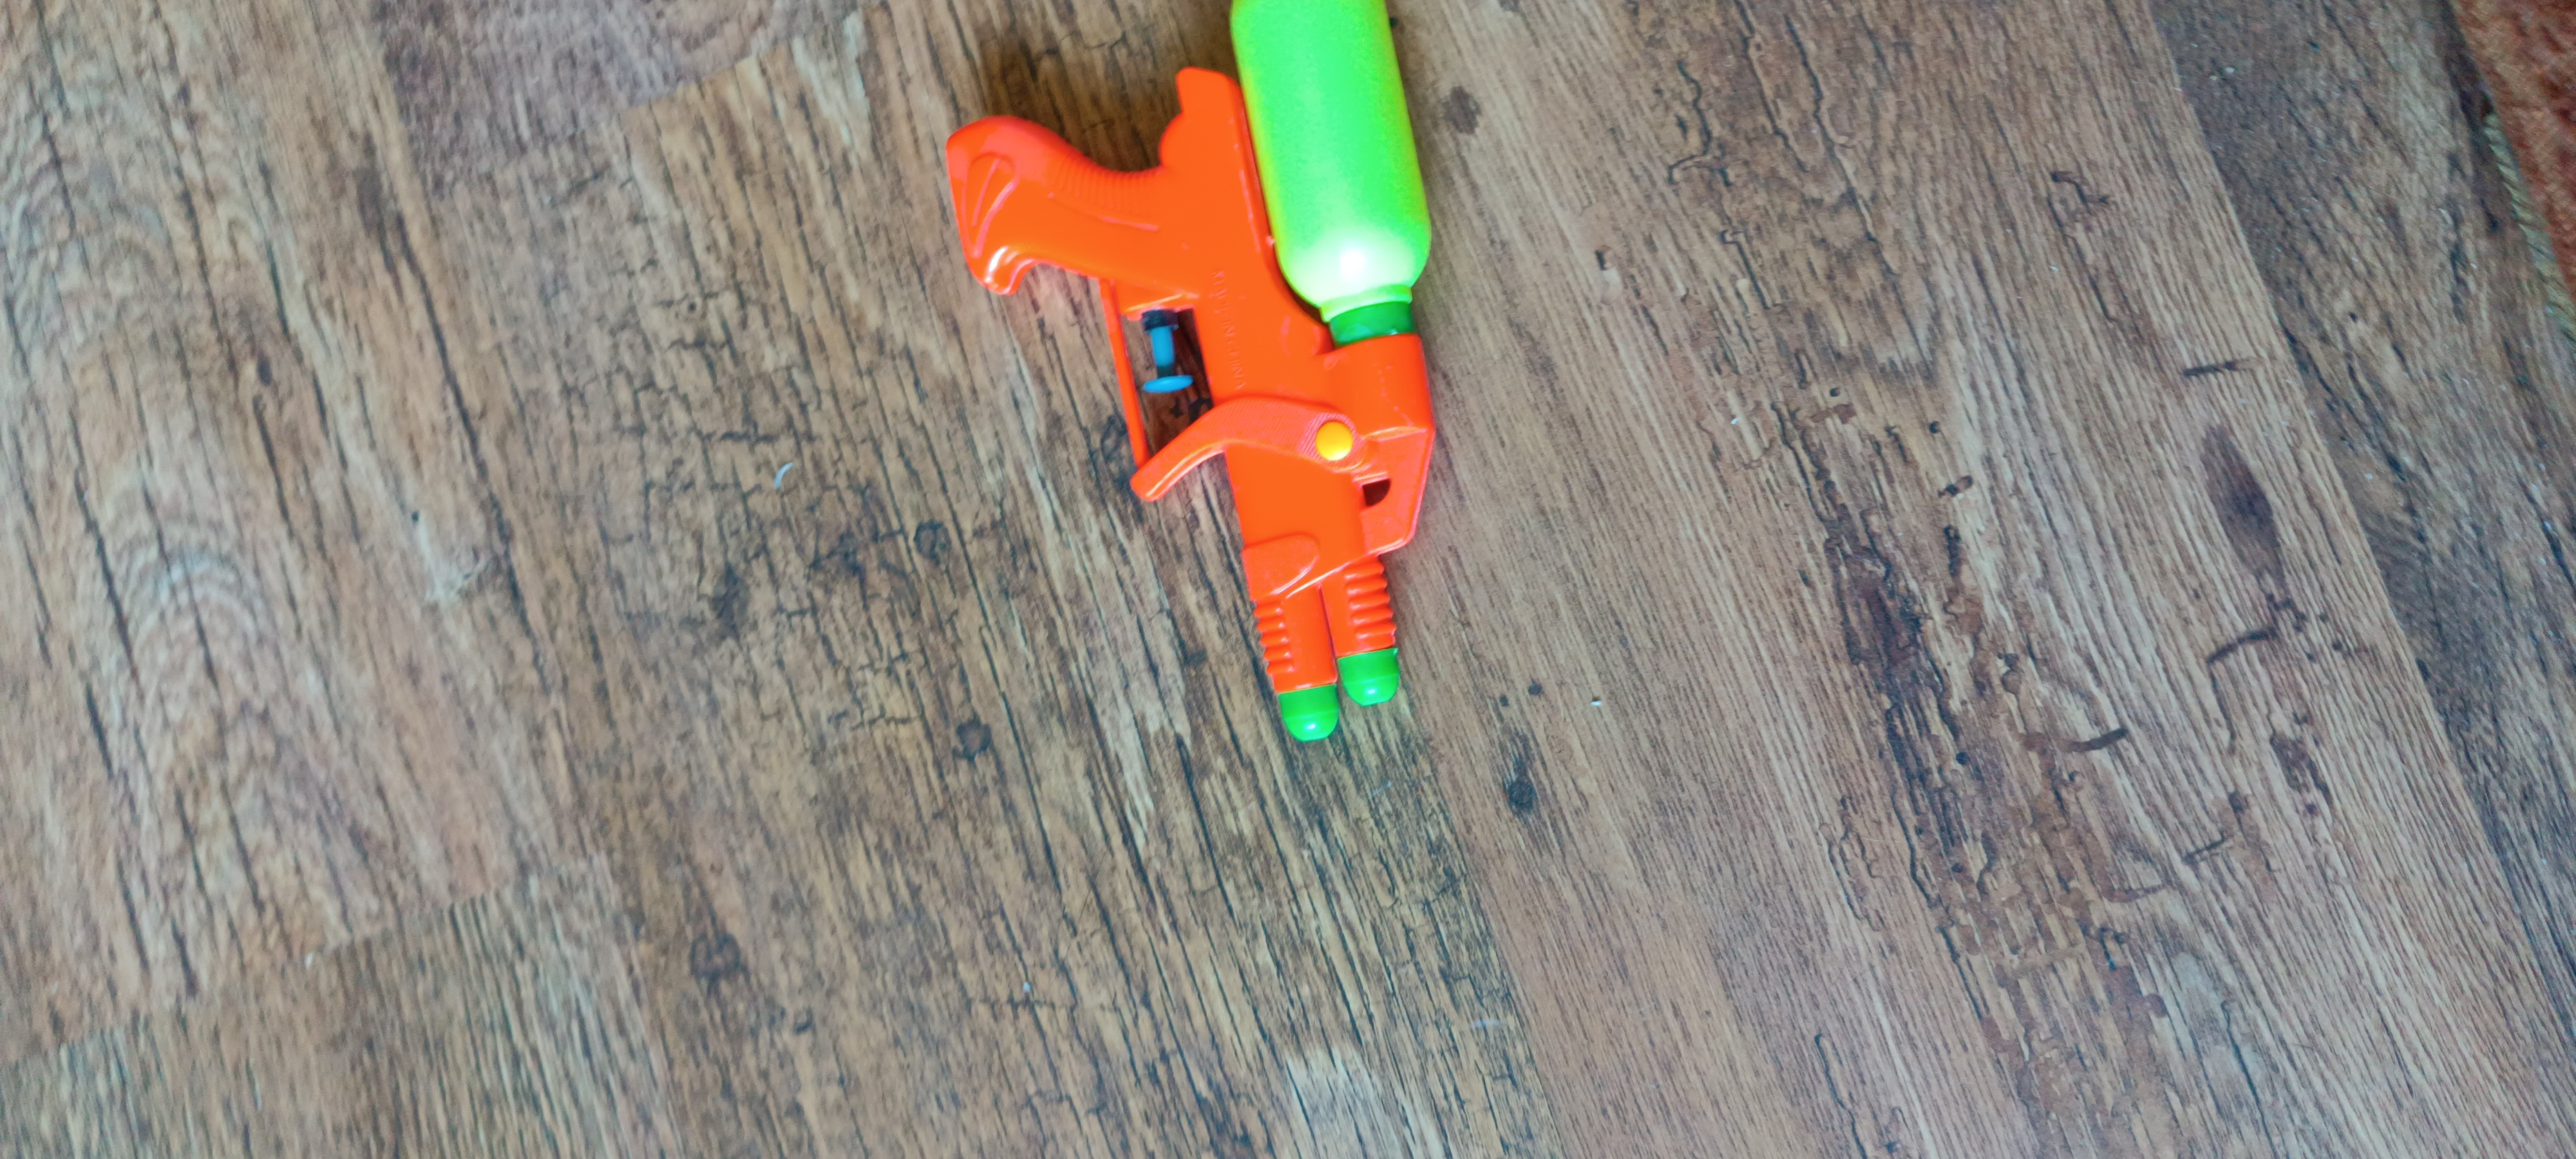Water Gun: (941, 0, 1434, 744)
